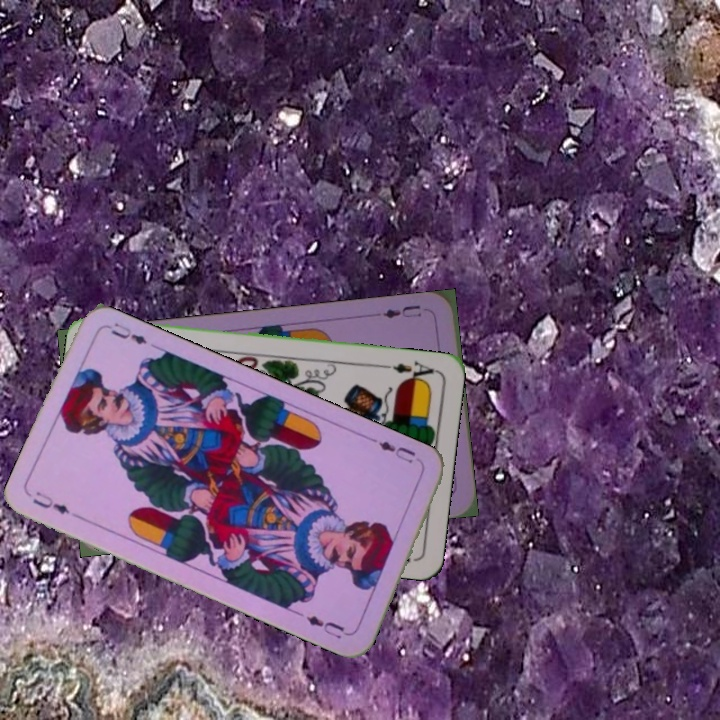EA: (380, 357, 439, 385)
EU: (28, 487, 73, 517), (374, 437, 418, 466), (379, 301, 424, 321)
